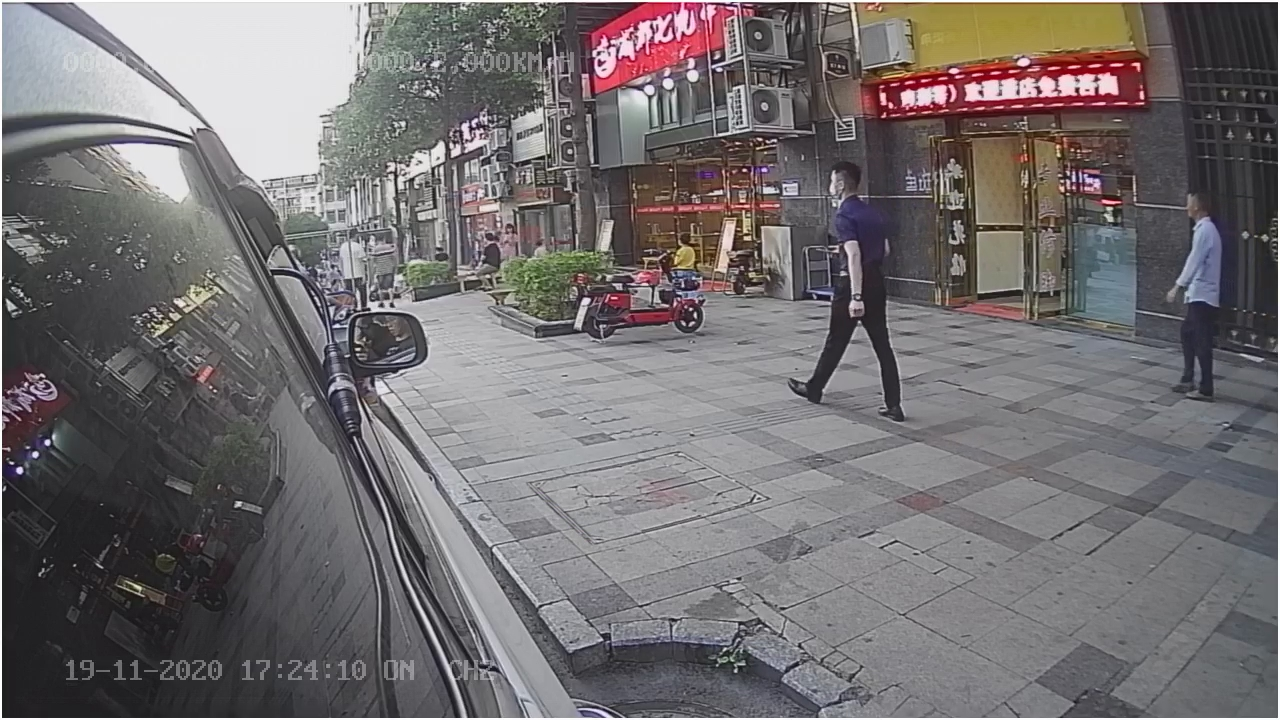person: (786, 160, 910, 425), (1152, 188, 1228, 407)
